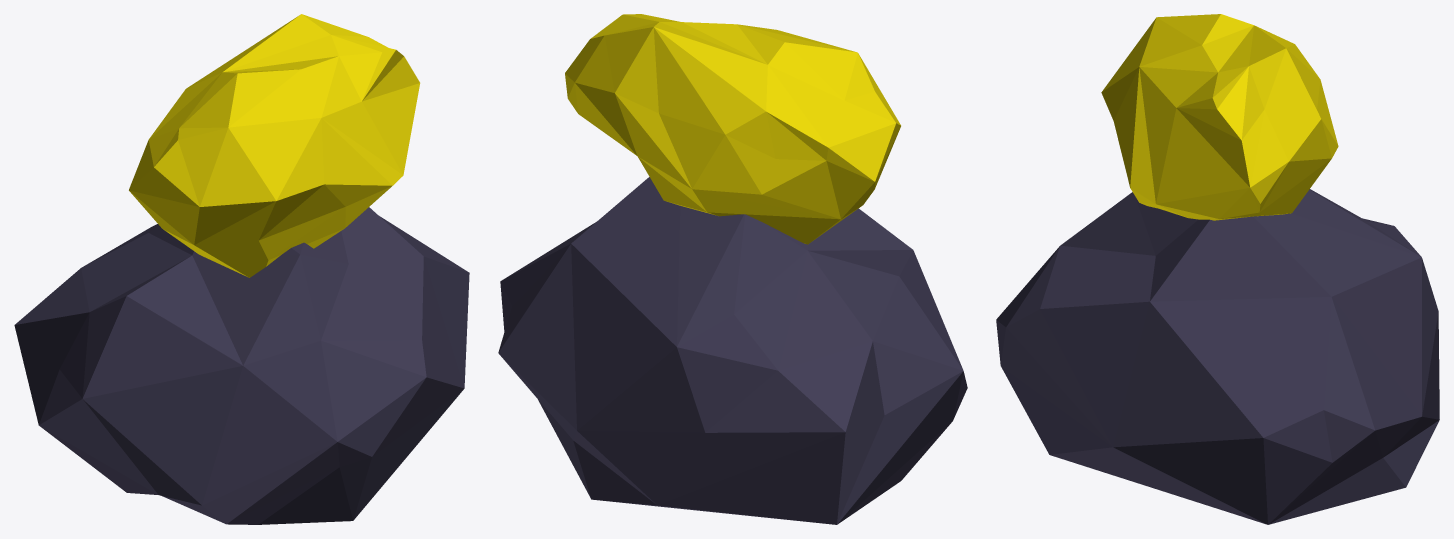
Rendered from GlowOreNode.fbx.
3 renders of one model, left to right at view 1: azimuth 30°, elevation 25°; view 2: azimuth 150°, elevation 25°; view 3: azimuth 270°, elevation 25°, orthographic. The views are drawn at different scales.
Visible parts, largest first — view 1: Stone, Icosphere; view 2: Stone, Icosphere; view 3: Stone, Icosphere.
Part boxes in pixels (x1,y1,x2,y2): Stone: [14, 207, 469, 524]; Icosphere: [129, 14, 420, 277]; Stone: [498, 177, 967, 524]; Icosphere: [565, 14, 900, 244]; Stone: [996, 189, 1439, 524]; Icosphere: [1101, 14, 1338, 220].
Bounding box in the file's own units: 96.22 × 91.12 × 83.71.
